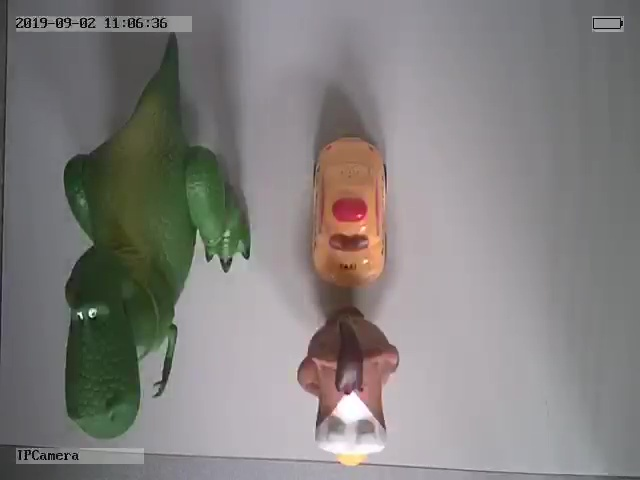car: (311, 136, 389, 288)
horse: (296, 305, 399, 466)
rex: (64, 55, 250, 441)
